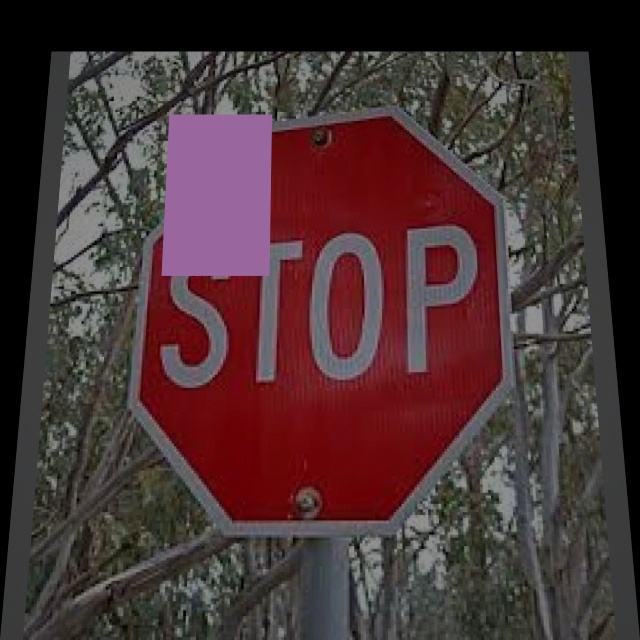Stop: (126, 109, 523, 534)
